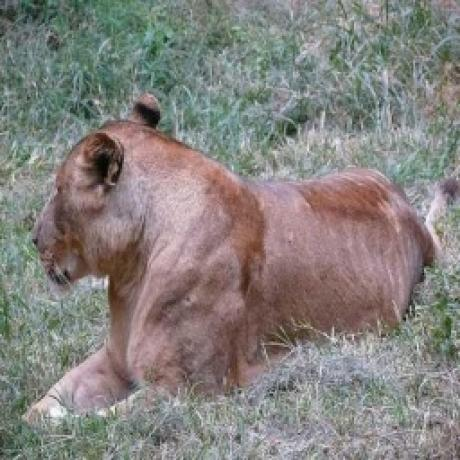Lion: (15, 95, 441, 423)
